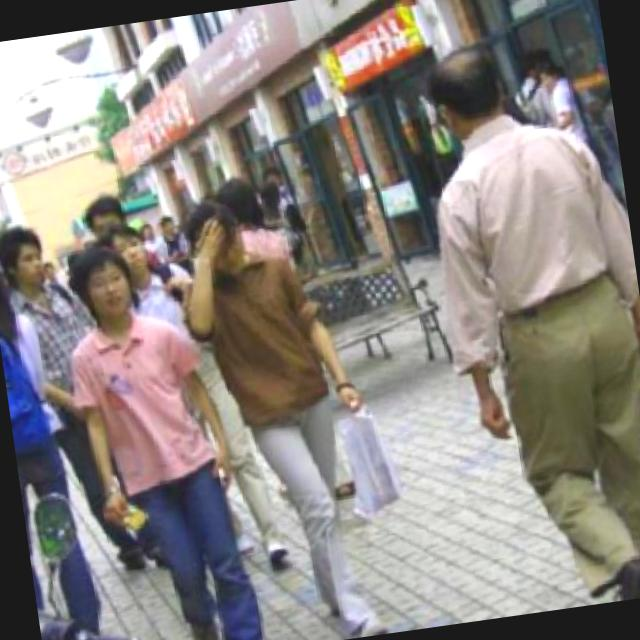Person: (405, 25, 640, 618), (161, 181, 416, 640), (51, 228, 258, 640), (0, 216, 144, 603), (0, 239, 104, 640)
